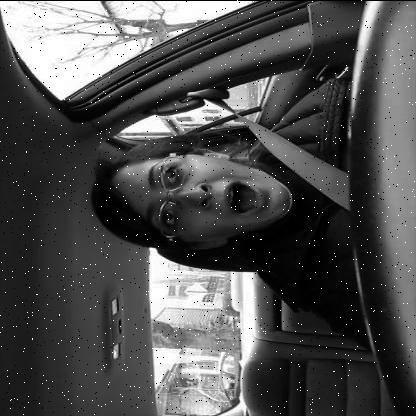seatbelt: (79, 82, 416, 260)
